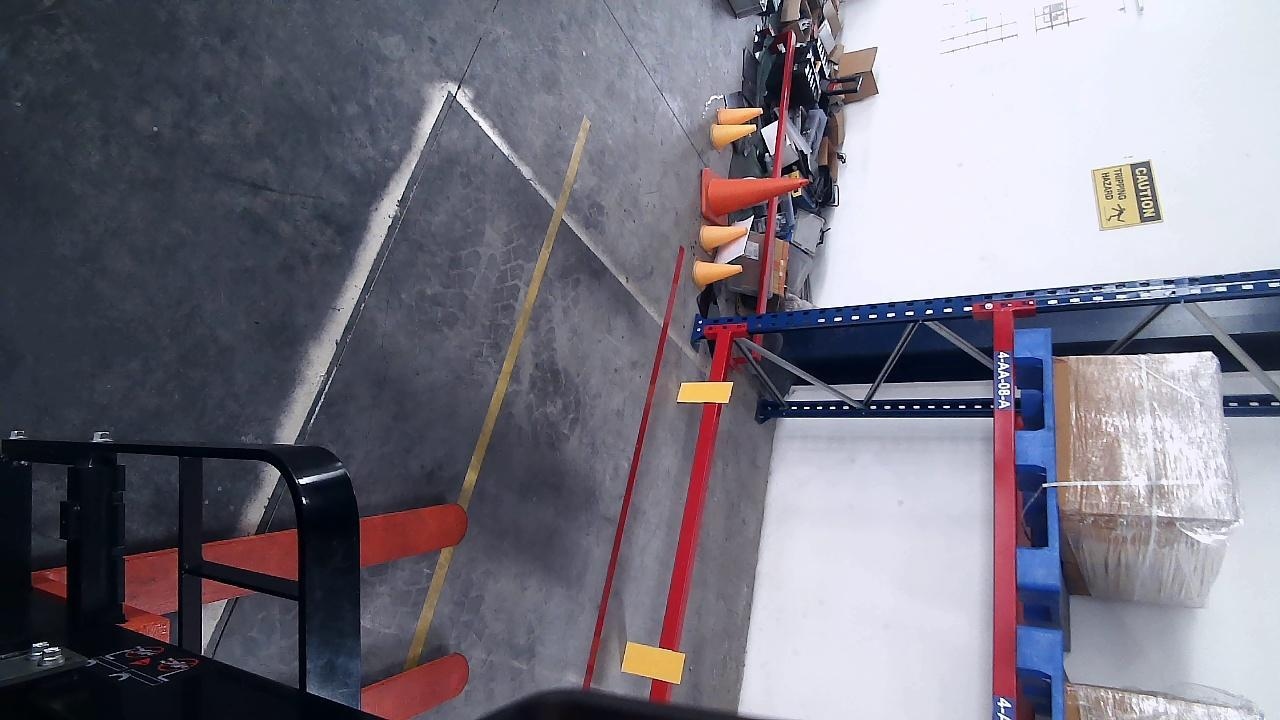h_rack: (645, 331, 732, 704), (992, 313, 1017, 718)
orange_strip: (619, 638, 685, 682), (672, 380, 736, 402)
red_line: (582, 245, 688, 692)
small_pallet: (1015, 329, 1058, 581), (1019, 628, 1066, 720)
yellow_line: (406, 113, 595, 664)
